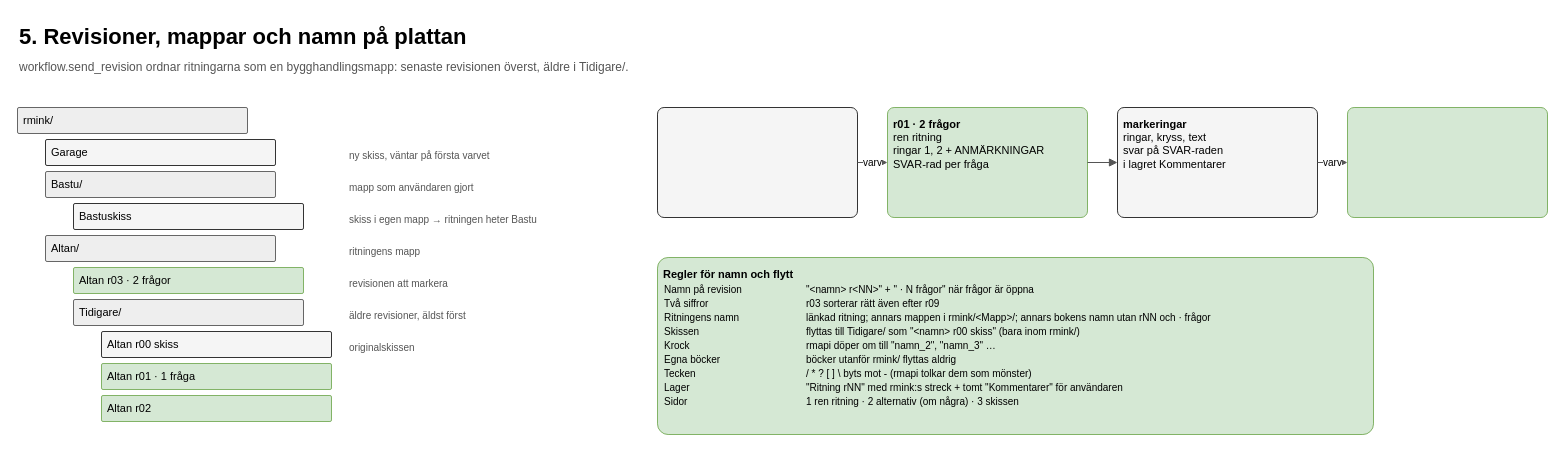
Some shapes in this 1565 by 452 pixel diagram are drawn without their labels. Here are the shapes that lost their labels. From the top down, the box of each, then its label:
(656, 106, 858, 218): r00 skiss handritad i rmink/ eller rmink/<Mapp>/
(1346, 106, 1548, 218): r02 svaren inarbetade frågor stängda r01 → Tidigare/
